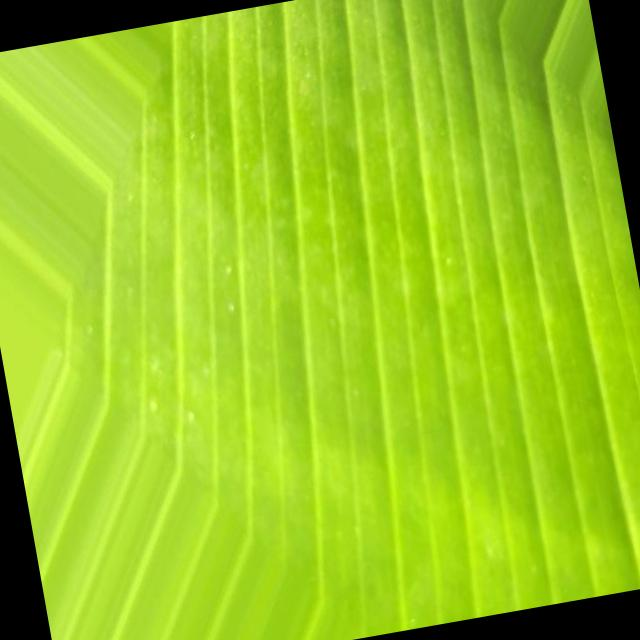Banana_Healthy: (96, 83, 555, 556)
